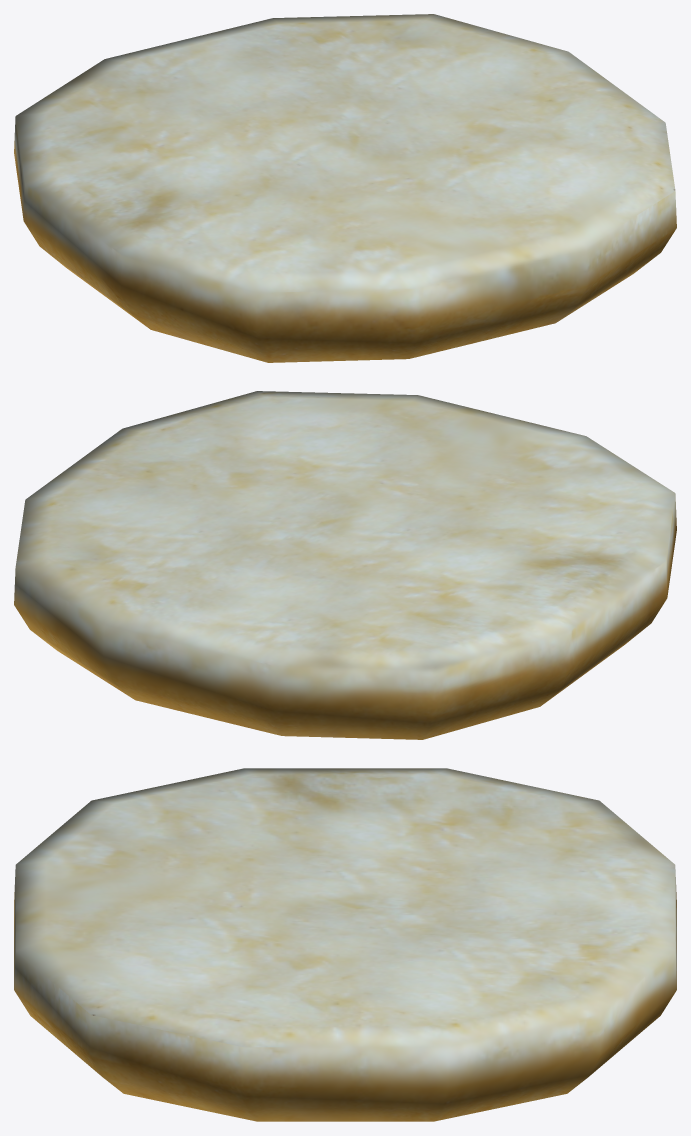
File: bun_bottom.fbx
3 renders of one model, top to bottom at view 1: azimuth 30°, elevation 25°; view 2: azimuth 150°, elevation 25°; view 3: azimuth 270°, elevation 25°, orthographic. The views are drawn at different scales.
Visible parts, largest first — view 1: BunBottom; view 2: BunBottom; view 3: BunBottom.
Part boxes in pixels (x1,y1,x2,y2): BunBottom: (14,14,676,362); BunBottom: (14,391,676,739); BunBottom: (14,768,676,1121).
Size of the model in its own units: 64.44 by 11.93 by 64.44.
